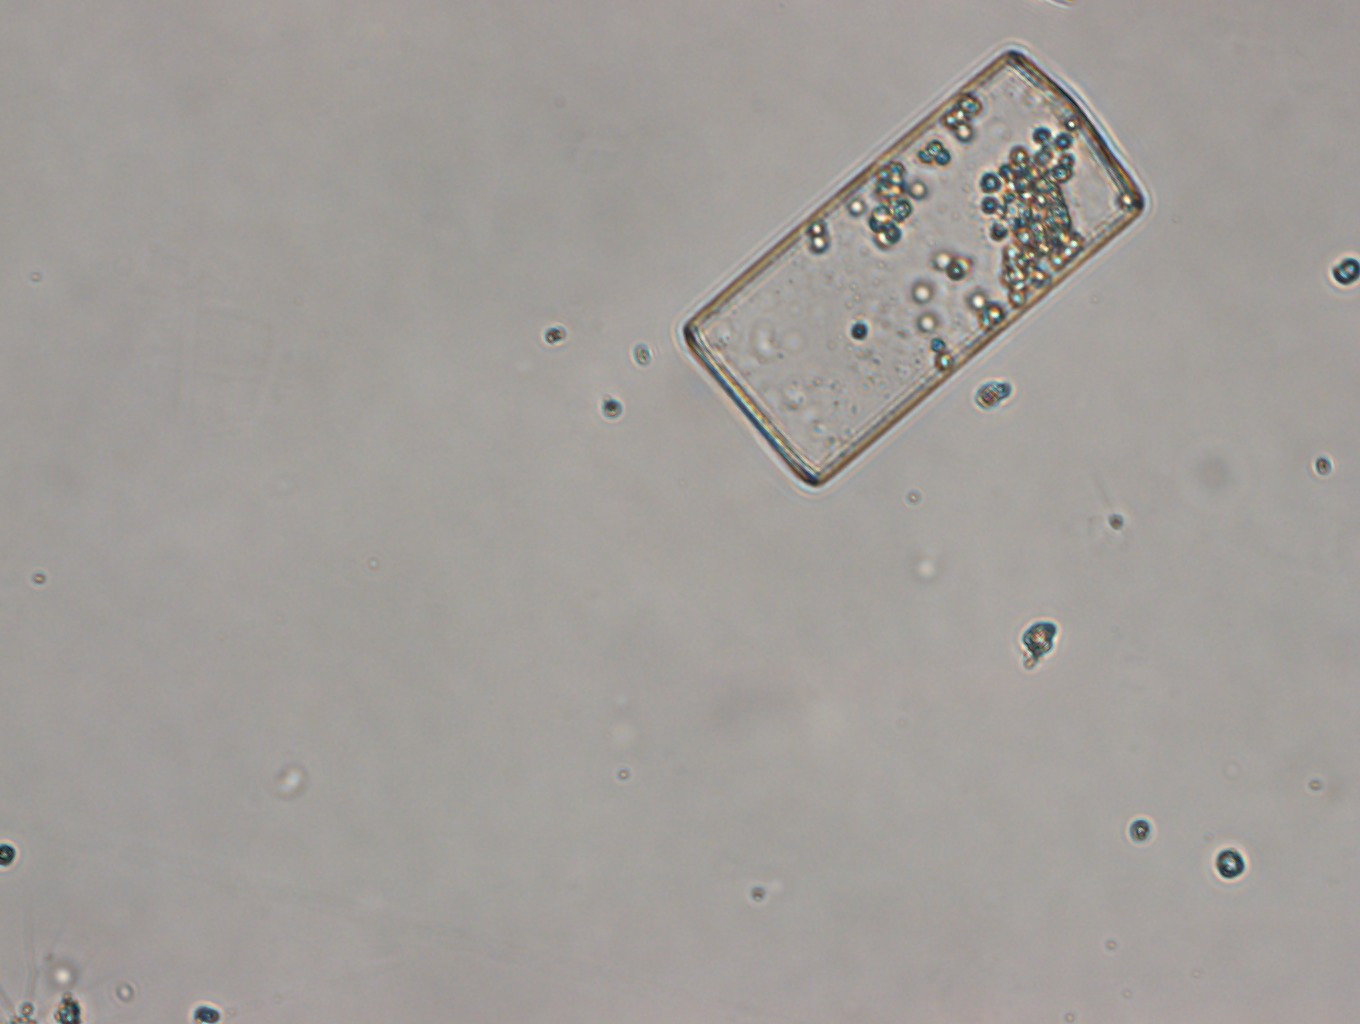guinardia flaccida: (669, 44, 1153, 488)
